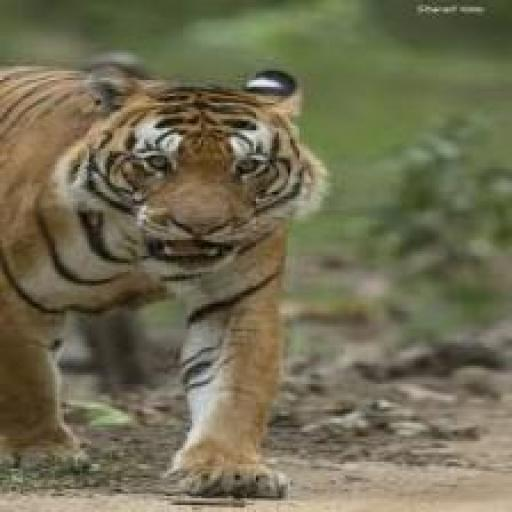Tiger: (0, 52, 362, 510)
